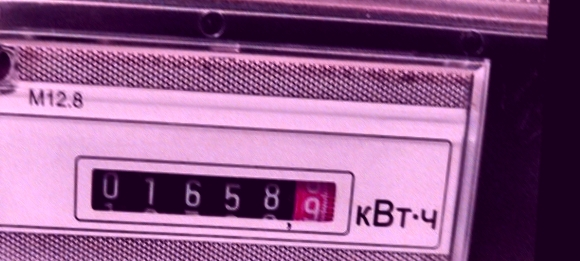0: (98, 165, 121, 198)
1: (142, 172, 157, 203)
5: (222, 177, 243, 210)
6: (182, 174, 204, 206)
8: (261, 177, 282, 210)
9: (301, 191, 320, 218)
screen: (64, 143, 359, 238)
